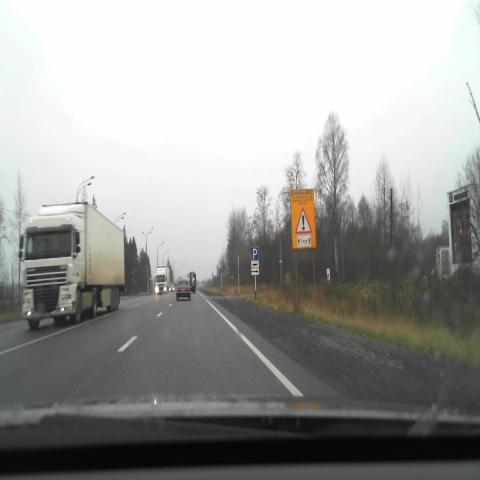1_33: (295, 206, 312, 234)
